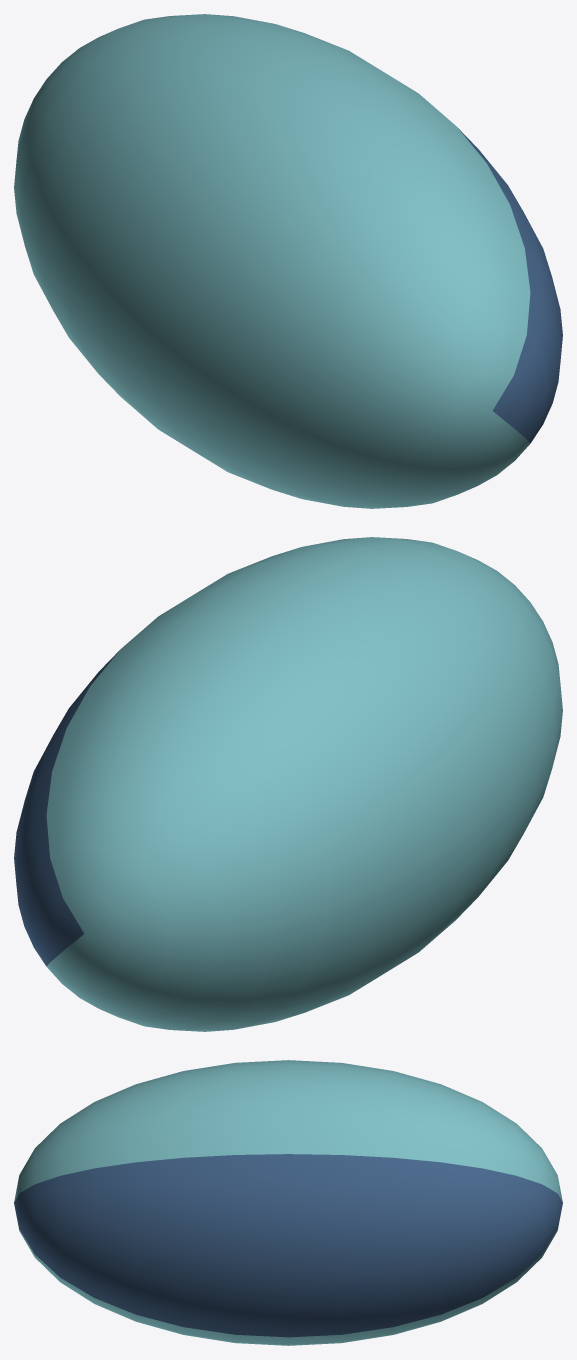
3 views of the same model, one above another, from view 1: azimuth 30°, elevation 25°; view 2: azimuth 150°, elevation 25°; view 3: azimuth 270°, elevation 25° (orthographic). The views are drawn at different scales.
Parts seen in each view (by area): view 1: Sphere001, 对象001; view 2: Sphere001, 对象001; view 3: 对象001, Sphere001.
Part boxes in pixels (bbox=[...]): Sphere001: bbox=[14, 14, 530, 508]; 对象001: bbox=[457, 127, 562, 443]; Sphere001: bbox=[46, 537, 562, 1031]; 对象001: bbox=[14, 650, 119, 966]; 对象001: bbox=[14, 1154, 562, 1337]; Sphere001: bbox=[14, 1060, 562, 1345].
Bounding box in the file's own units: 81.94 × 81.94 × 157.
